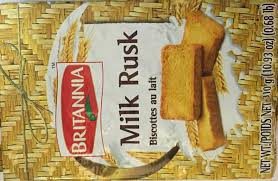Britania-toast-med: (1, 1, 276, 180)
